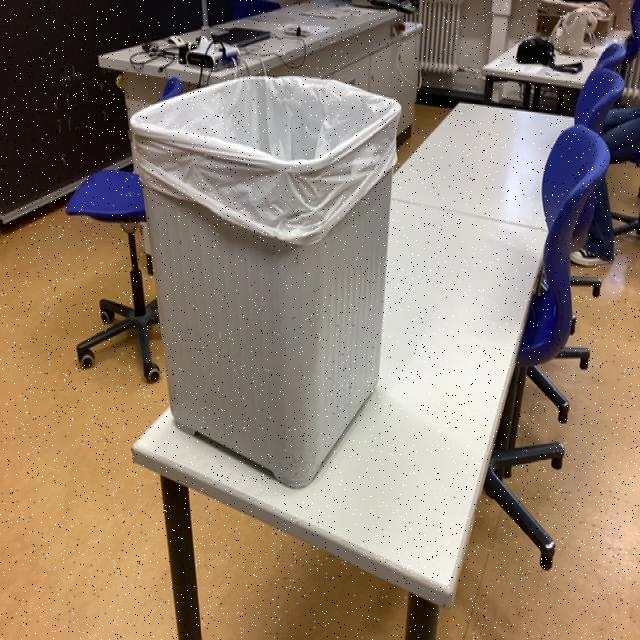garbage container: (103, 41, 411, 507)
